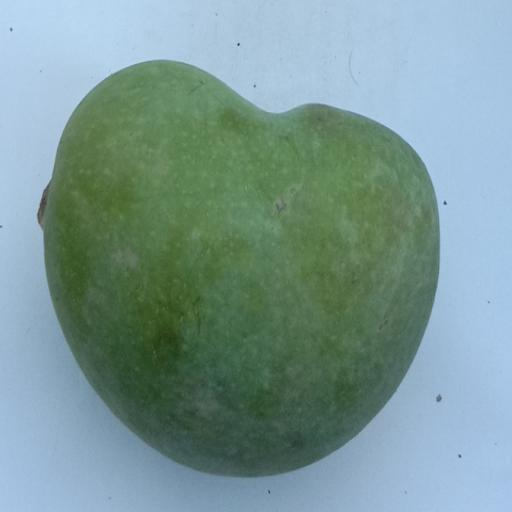mango-unripe: (23, 37, 473, 471)
